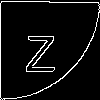Z: (24, 25, 57, 72)
